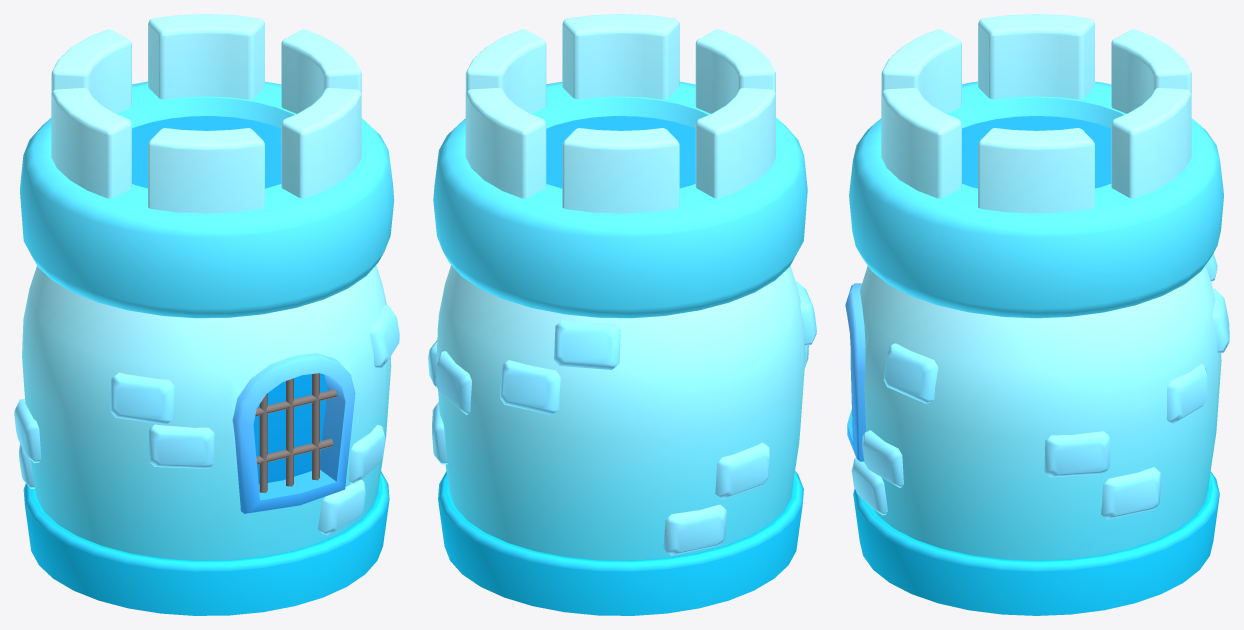
Rendered from tower_004.glb.
3 renders of one model, left to right at view 1: azimuth 30°, elevation 25°; view 2: azimuth 150°, elevation 25°; view 3: azimuth 270°, elevation 25°, orthographic.
Visible parts, largest first — view 1: tower_004; view 2: tower_004; view 3: tower_004.
Boxes of the visible parts, <box> form: tower_004: <box>14,14,399,615</box>; tower_004: <box>428,14,816,615</box>; tower_004: <box>845,14,1229,615</box>.
Size of the model in its own units: 5.93 by 7.87 by 5.93.
1 material, 1 textured.
